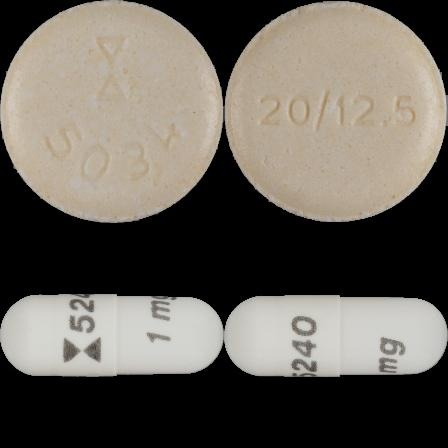0172-5034: (0, 0, 224, 224)
